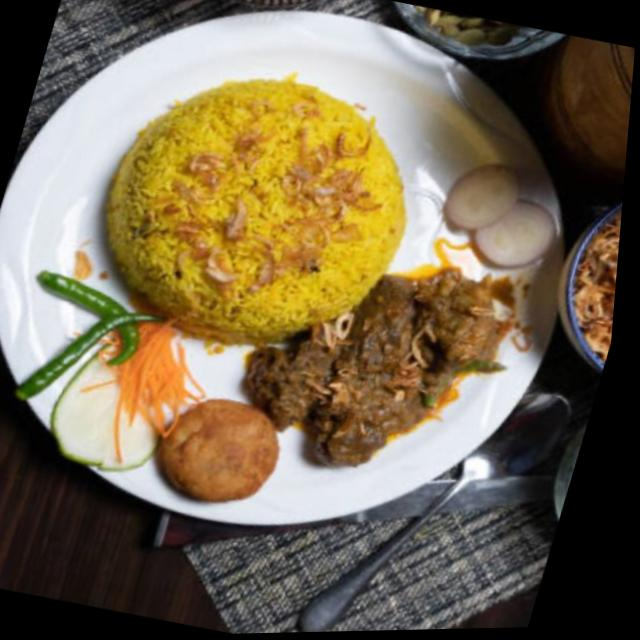RICE: (113, 84, 402, 340)
